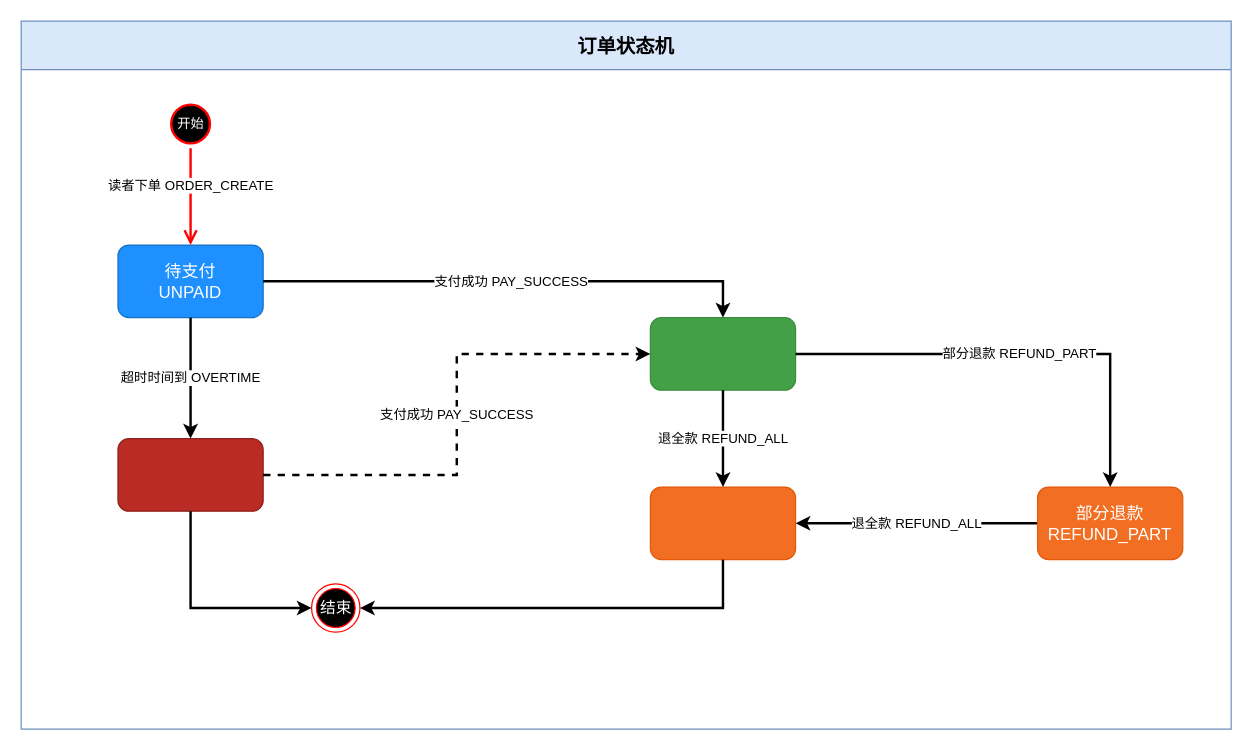
Some shapes in this 1252 by 750 pixel diagram are drawn without their labels. The shapes that lost their labels are listed below. From the top down, each one's box as (x1, y1, x2, y2) in pixels, then its label:
(649, 316, 796, 390): 已支付 PAID
(117, 437, 263, 511): 已关闭 CLOSE
(649, 486, 796, 560): 已退款 REFUND
